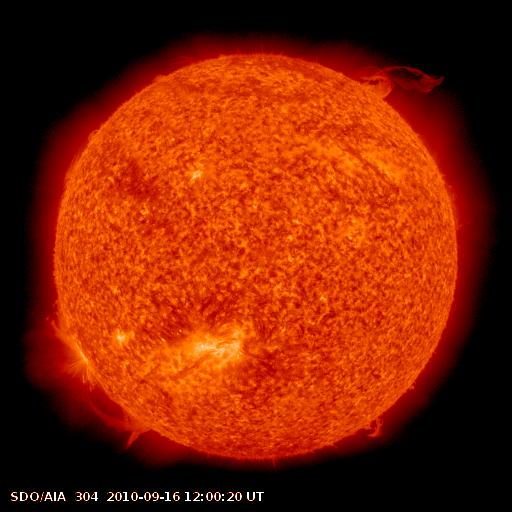prominence: (72, 374, 169, 454), (353, 47, 454, 113), (60, 117, 114, 193), (348, 404, 401, 450)
